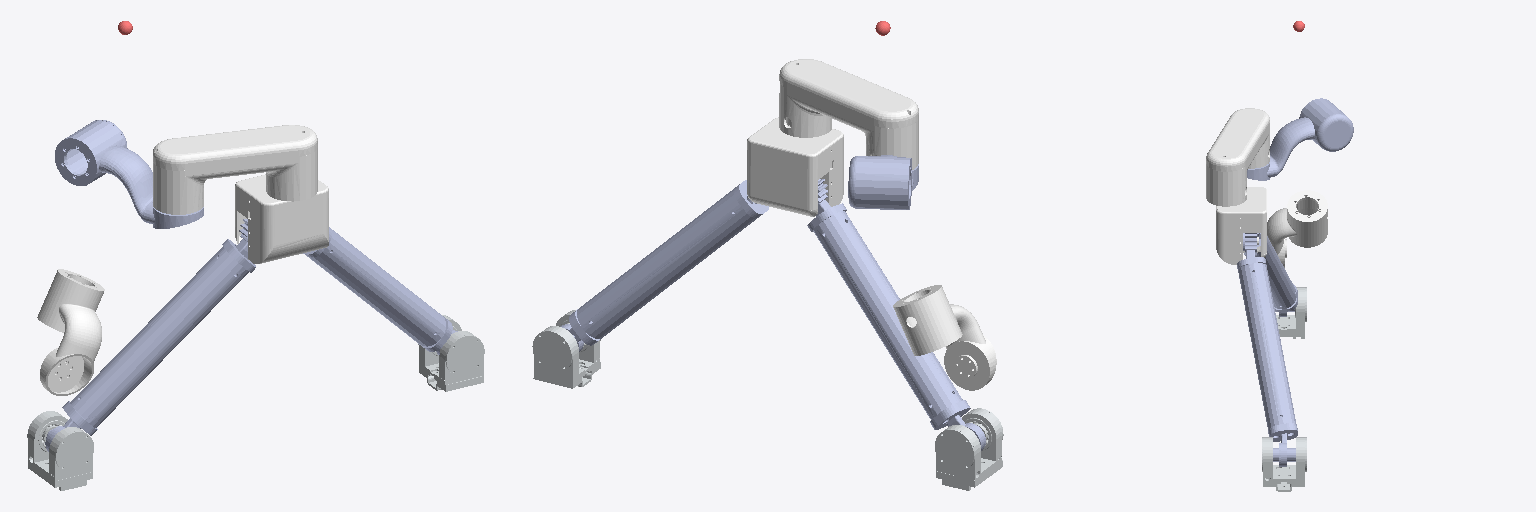
robot.urdf — arm12:
<?xml version="1.0" encoding="utf-8" ?>
<!-- This URDF was automatically created by SolidWorks to URDF Exporter! Originally created by [author] ([email redacted]) 
     Commit Version: 1.6.0-4-g7f85cfe  Build Version: 1.6.7995.38578
     For more information, please see http://wiki.ros.org/sw_urdf_exporter -->
<robot name="arm12">
    <link name="rotated_base" />
    <joint name="rot_to_base" type="fixed">
        <parent link="rotated_base" />
        <child link="base_link" />
        <origin xyz="0 0 0" rpy="0 3.14 0" />
    </joint>
    <link name="base_link">
        <inertial>
            <origin xyz="-0.114741653388133 -0.00394836028883594 -0.0536105920933669" rpy="0 0 0" />
            <mass value="2.63443753992699" />
            <inertia ixx="0.00189567328668365" ixy="7.29873865389891E-06" ixz="0.000140090900098037" iyy="0.158992383742472" iyz="1.36209227842431E-06" izz="0.158257846821755" />
        </inertial>
        <visual>
            <origin xyz="0 0 0" rpy="0 0 0" />
            <geometry>
                <mesh filename="package://arm12/meshes/base_link.STL" />
            </geometry>
            <material name="">
                <color rgba="0.792156862745098 0.819607843137255 0.933333333333333 1" />
            </material>
        </visual>
        <collision>
            <origin xyz="0 0 0" rpy="0 0 0" />
            <geometry>
                <mesh filename="package://arm12/meshes/base_link.STL" />
            </geometry>
        </collision>
    </link>
    <link name="l1">
        <inertial>
            <origin xyz="0.403597483420043 -0.0414638574022828 0.00700359932104074" rpy="0 0 0" />
            <mass value="0.381600228345592" />
            <inertia ixx="0.000152419359459052" ixy="-1.16717541525886E-07" ixz="-4.78639401455686E-07" iyy="0.00015874224871389" iyz="3.26007402233397E-07" izz="0.000167838112577603" />
        </inertial>
        <visual>
            <origin xyz="0 0 0" rpy="0 0 0" />
            <geometry>
                <mesh filename="package://arm12/meshes/l1.STL" />
            </geometry>
            <material name="">
                <color rgba="0.898039215686275 0.917647058823529 0.929411764705882 1" />
            </material>
        </visual>
        <collision>
            <origin xyz="0 0 0" rpy="0 0 0" />
            <geometry>
                <mesh filename="package://arm12/meshes/l1.STL" />
            </geometry>
        </collision>
    </link>
    <joint name="j1" type="prismatic">
        <origin xyz="-0.79073 0.0075 -0.026676" rpy="1.5708 0 0" />
        <parent link="base_link" />
        <child link="l1" />
        <axis xyz="1 0.00024256 0" />
        <limit lower="-1" upper="1" effort="1000" velocity="1000" />
    </joint>
    <link name="l11">
        <inertial>
            <origin xyz="0.109124708134365 -0.106742142823085 0.0291269836365173" rpy="0 0 0" />
            <mass value="0.308192429361636" />
            <inertia ixx="0.00036660835632017" ixy="0.000236532188858594" ixz="-5.91891737788076E-05" iyy="0.000377052003364126" iyz="5.79126892712075E-05" izz="0.000595833629485193" />
        </inertial>
        <visual>
            <origin xyz="0 0 0" rpy="0 0 0" />
            <geometry>
                <mesh filename="package://arm12/meshes/l11.STL" />
            </geometry>
            <material name="">
                <color rgba="0.792156862745098 0.819607843137255 0.933333333333333 1" />
            </material>
        </visual>
        <collision>
            <origin xyz="0 0 0" rpy="0 0 0" />
            <geometry>
                <mesh filename="package://arm12/meshes/l11.STL" />
            </geometry>
        </collision>
    </link>
    <joint name="j11" type="continuous">
        <origin xyz="0.403574468337888 -0.0486058728976355 -0.000248553231492891" rpy="0 0 0" />
        <parent link="l1" />
        <child link="l11" />
        <axis xyz="0 0 -1" />
    </joint>
    <link name="l2">
        <inertial>
            <origin xyz="1.0157003601035 -0.0384463563381593 0.00765610841163893" rpy="0 0 0" />
            <mass value="0.51688405008029" />
            <inertia ixx="0.000289252991255811" ixy="6.16500231917276E-07" ixz="-1.38368241480024E-06" iyy="0.000291829291446418" iyz="-1.10552388292668E-06" izz="0.00026788505040365" />
        </inertial>
        <visual>
            <origin xyz="0 0 0" rpy="0 0 0" />
            <geometry>
                <mesh filename="package://arm12/meshes/l2.STL" />
            </geometry>
            <material name="">
                <color rgba="0.898039215686275 0.917647058823529 0.929411764705882 1" />
            </material>
        </visual>
        <collision>
            <origin xyz="0 0 0" rpy="0 0 0" />
            <geometry>
                <mesh filename="package://arm12/meshes/l2.STL" />
            </geometry>
        </collision>
    </link>
    <joint name="j2" type="prismatic">
        <origin xyz="-0.79073 0.0075 -0.026676" rpy="1.5708 0 0" />
        <parent link="base_link" />
        <child link="l2" />
        <axis xyz="1 0.00024256 0" />
        <limit lower="-1" upper="1" effort="1000" velocity="1000" />
    </joint>
    <link name="l3">
        <inertial>
            <origin xyz="-0.10814121670337 -0.105773126393835 0.0288760940795127" rpy="0 0 0" />
            <mass value="0.306128922940993" />
            <inertia ixx="0.000367090541907876" ixy="-0.000237220677320172" ixz="5.90721357269542E-05" iyy="0.000377593275938236" iyz="5.77716342409563E-05" izz="0.000596928132744383" />
        </inertial>
        <visual>
            <origin xyz="0 0 0" rpy="0 0 0" />
            <geometry>
                <mesh filename="package://arm12/meshes/l3.STL" />
            </geometry>
            <material name="">
                <color rgba="0.792156862745098 0.819607843137255 0.933333333333333 1" />
            </material>
        </visual>
        <collision>
            <origin xyz="0 0 0" rpy="0 0 0" />
            <geometry>
                <mesh filename="package://arm12/meshes/l3.STL" />
            </geometry>
        </collision>
    </link>
    <joint name="j3" type="continuous">
        <origin xyz="1.0158 -0.048606 -0.00024711" rpy="0 0 0" />
        <parent link="l2" />
        <child link="l3" />
        <axis xyz="0 0 -1" />
        <limit lower="1000" upper="1000" effort="1000" velocity="1000" />
    </joint>
    <link name="l4">
        <inertial>
            <origin xyz="-0.0247644704780808 -0.0233597492007901 0.033905617015353" rpy="0 0 0" />
            <mass value="0.247877954974344" />
            <inertia ixx="0.000275512262276771" ixy="-4.01235172214852E-08" ixz="5.68470398676511E-07" iyy="0.000303231827207215" iyz="4.68448608364464E-05" izz="0.000495903390975614" />
        </inertial>
        <visual>
            <origin xyz="0 0 0" rpy="0 0 0" />
            <geometry>
                <mesh filename="package://arm12/meshes/l4.STL" />
            </geometry>
            <material name="">
                <color rgba="1 1 1 1" />
            </material>
        </visual>
        <collision>
            <origin xyz="0 0 0" rpy="0 0 0" />
            <geometry>
                <mesh filename="package://arm12/meshes/l4.STL" />
            </geometry>
        </collision>
    </link>
    <joint name="j4" type="continuous">
        <origin xyz="-0.2814 -0.27508 0.049459" rpy="0 0 0" />
        <parent link="l3" />
        <child link="l4" />
        <axis xyz="0 0 1" />
        <limit lower="1000" upper="1000" effort="1000" velocity="1000" />
    </joint>
    <link name="l6">
        <inertial>
            <origin xyz="0.0835083121801821 -0.0131318490598266 -0.022315022598535" rpy="0 0 0" />
            <mass value="0.492993890644909" />
            <inertia ixx="0.000390471608455916" ixy="2.48268434817755E-06" ixz="0.000302295718302552" iyy="0.00155512945705818" iyz="-1.20122073303538E-06" izz="0.00147705952278512" />
        </inertial>
        <visual>
            <origin xyz="0 0 0" rpy="0 0 0" />
            <geometry>
                <mesh filename="package://arm12/meshes/l6.STL" />
            </geometry>
            <material name="">
                <color rgba="1 1 1 1" />
            </material>
        </visual>
        <collision>
            <origin xyz="0 0 0" rpy="0 0 0" />
            <geometry>
                <mesh filename="package://arm12/meshes/l6.STL" />
            </geometry>
        </collision>
    </link>
    <joint name="j6" type="continuous">
        <origin xyz="-0.031134 -0.097956 0.059414" rpy="0 0 0" />
        <parent link="l4" />
        <child link="l6" />
        <axis xyz="0 1 0" />
        <limit lower="1000" upper="1000" effort="1000" velocity="1000" />
    </joint>
    <link name="l7">
        <inertial>
            <origin xyz="0.0315318501806746 0.00583507478957768 -0.0817967507514115" rpy="0 0 0" />
            <mass value="0.200740625287396" />
            <inertia ixx="0.000563180696639149" ixy="8.48547014814516E-05" ixz="0.000202999903698582" iyy="0.000610313185565538" iyz="-0.000156946216691284" izz="0.000315973335029523" />
        </inertial>
        <visual>
            <origin xyz="0 0 0" rpy="0 0 0" />
            <geometry>
                <mesh filename="package://arm12/meshes/l7.STL" />
            </geometry>
            <material name="">
                <color rgba="0.792156862745098 0.819607843137255 0.933333333333333 1" />
            </material>
        </visual>
        <collision>
            <origin xyz="0 0 0" rpy="0 0 0" />
            <geometry>
                <mesh filename="package://arm12/meshes/l7.STL" />
            </geometry>
        </collision>
    </link>
    <joint name="j7" type="continuous">
        <origin xyz="0.16802 0 -0.043732" rpy="0 0 0" />
        <parent link="l6" />
        <child link="l7" />
        <axis xyz="0 1 0" />
        <limit lower="1000" upper="1000" effort="1000" velocity="1000" />
    </joint>
    <link name="l8">
        <inertial>
            <origin xyz="-0.00639785855543679 -0.105467190035519 0.0332454721635889" rpy="0 0 0" />
            <mass value="0.232745208884819" />
            <inertia ixx="0.000344329566709667" ixy="-0.000100351533357395" ixz="-3.41790292256826E-06" iyy="0.000220748774570507" iyz="9.99580236012298E-06" izz="0.000406188026813068" />
        </inertial>
        <visual>
            <origin xyz="0 0 0" rpy="0 0 0" />
            <geometry>
                <mesh filename="package://arm12/meshes/l8.STL" />
            </geometry>
            <material name="">
                <color rgba="1 1 1 1" />
            </material>
        </visual>
        <collision>
            <origin xyz="0 0 0" rpy="0 0 0" />
            <geometry>
                <mesh filename="package://arm12/meshes/l8.STL" />
            </geometry>
        </collision>
    </link>
    <joint name="j8" type="continuous">
        <origin xyz="0.057439 -0.0094087 -0.13328" rpy="0 0 0" />
        <parent link="l7" />
        <child link="l8" />
        <axis xyz="-0.90237 0 -0.43096" />
        <limit lower="1000" upper="1000" effort="1000" velocity="1000" />
    </joint>
    <!--  在 l8 后面挂一个 tool0 -->
    <link name="tool0">
        <!-- 如果你想在 RViz 里可视化，可以加一个小盒子或球体；不想可视化也可以留空 -->
        <visual>
            <origin xyz="0 0 0" rpy="0 0 0" />
            <geometry>
                <sphere radius="0.01" />
            </geometry>
            <material name="Grey">
                <color rgba="1 0.5 0.5 1" />
            </material>
        </visual>
        <collision>
            <origin xyz="0 0 0" rpy="0 0 0" />
            <geometry>
                <sphere radius="0.001" />
            </geometry>
        </collision>
        <!-- 惯量随便给一个很小的，或者干脆不加 inertial 也行 -->
        <inertial>
            <mass value="0.1" />
            <origin xyz="0 0 0" rpy="0 0 0" />
            <inertia ixx="0.03" iyy="0.03" izz="0.03" ixy="0.0" ixz="0.0" iyz="0.0" />
        </inertial>
    </link>
    <joint name="tool0_fixed_joint" type="fixed">
        <parent link="l8" />
        <child link="tool0" />
        <!-- 如果你的夹爪前端需要在 l8 的某个偏移位置，就在这里改 xyz -->
        <origin xyz="-0.03 -0.2 0.05" rpy="0 0 0" />
    </joint>
    <transmission name="trans_j1">
        <type>transmission_interface/SimpleTransmission</type>
        <joint name="j1">
            <hardwareInterface>hardware_interface/EffortJointInterface</hardwareInterface>
        </joint>
        <actuator name="j1_motor">
            <hardwareInterface>hardware_interface/EffortJointInterface</hardwareInterface>
            <mechanicalReduction>1</mechanicalReduction>
        </actuator>
    </transmission>
    <transmission name="trans_j11">
        <type>transmission_interface/SimpleTransmission</type>
        <joint name="j11">
            <hardwareInterface>hardware_interface/EffortJointInterface</hardwareInterface>
        </joint>
        <actuator name="j11_motor">
            <hardwareInterface>hardware_interface/EffortJointInterface</hardwareInterface>
            <mechanicalReduction>1</mechanicalReduction>
        </actuator>
    </transmission>
    <transmission name="trans_j2">
        <type>transmission_interface/SimpleTransmission</type>
        <joint name="j2">
            <hardwareInterface>hardware_interface/EffortJointInterface</hardwareInterface>
        </joint>
        <actuator name="j2_motor">
            <hardwareInterface>hardware_interface/EffortJointInterface</hardwareInterface>
            <mechanicalReduction>1</mechanicalReduction>
        </actuator>
    </transmission>
    <transmission name="trans_j3">
        <type>transmission_interface/SimpleTransmission</type>
        <joint name="j3">
            <hardwareInterface>hardware_interface/EffortJointInterface</hardwareInterface>
        </joint>
        <actuator name="j3_motor">
            <hardwareInterface>hardware_interface/EffortJointInterface</hardwareInterface>
            <mechanicalReduction>1</mechanicalReduction>
        </actuator>
    </transmission>
    <transmission name="trans_j4">
        <type>transmission_interface/SimpleTransmission</type>
        <joint name="j4">
            <hardwareInterface>hardware_interface/EffortJointInterface</hardwareInterface>
        </joint>
        <actuator name="j4_motor">
            <hardwareInterface>hardware_interface/EffortJointInterface</hardwareInterface>
            <mechanicalReduction>1</mechanicalReduction>
        </actuator>
    </transmission>
    <transmission name="trans_j6">
        <type>transmission_interface/SimpleTransmission</type>
        <joint name="j6">
            <hardwareInterface>hardware_interface/EffortJointInterface</hardwareInterface>
        </joint>
        <actuator name="j6_motor">
            <hardwareInterface>hardware_interface/EffortJointInterface</hardwareInterface>
            <mechanicalReduction>1</mechanicalReduction>
        </actuator>
    </transmission>
    <transmission name="trans_j7">
        <type>transmission_interface/SimpleTransmission</type>
        <joint name="j7">
            <hardwareInterface>hardware_interface/EffortJointInterface</hardwareInterface>
        </joint>
        <actuator name="j7_motor">
            <hardwareInterface>hardware_interface/EffortJointInterface</hardwareInterface>
            <mechanicalReduction>1</mechanicalReduction>
        </actuator>
    </transmission>
    <transmission name="trans_j8">
        <type>transmission_interface/SimpleTransmission</type>
        <joint name="j8">
            <hardwareInterface>hardware_interface/EffortJointInterface</hardwareInterface>
        </joint>
        <actuator name="j8_motor">
            <hardwareInterface>hardware_interface/EffortJointInterface</hardwareInterface>
            <mechanicalReduction>1</mechanicalReduction>
        </actuator>
    </transmission>
    <gazebo>
        <plugin name="gazebo_ros_control" filename="libgazebo_ros_control.so">
            <robotNamespace>/</robotNamespace>
        </plugin>
    </gazebo>
</robot>

--- Render facts (derived) ---
3 views of the same robot in one strip: view 1: azimuth 30°, elevation 25°; view 2: azimuth 150°, elevation 25°; view 3: azimuth 270°, elevation 25° (orthographic).
Robot: arm12 — 11 links, 10 joints (6 continuous, 2 prismatic, 2 fixed); root link rotated_base; default pose: all joints at 0.
Links seen in each view (by area): view 1: l6, l3, l8, l4, l11, l7, l2, l1; view 2: l6, l3, l11, l4, l8, l2, l7, l1; view 3: l11, l6, l7, l8, l4, l1, l3, l2.
Boxes of the visible links, <box> form: l6: <box>153,125,317,214</box>; l3: <box>45,219,255,451</box>; l8: <box>37,269,104,395</box>; l4: <box>235,174,328,263</box>; l11: <box>303,227,457,354</box>; l7: <box>55,120,203,228</box>; l2: <box>27,411,93,490</box>; l1: <box>418,315,484,391</box>; l6: <box>779,59,918,169</box>; l3: <box>807,179,985,450</box>; l11: <box>560,180,768,351</box>; l4: <box>747,117,843,216</box>; l8: <box>893,285,996,390</box>; l2: <box>935,408,1003,490</box>; l7: <box>848,155,918,209</box>; l1: <box>532,310,600,388</box>; l11: <box>1237,233,1297,466</box>; l6: <box>1206,108,1269,206</box>; l7: <box>1247,98,1353,180</box>; l8: <box>1267,190,1327,267</box>; l4: <box>1216,187,1266,264</box>; l1: <box>1262,437,1306,491</box>; l3: <box>1244,233,1297,316</box>; l2: <box>1276,287,1306,338</box>.
Bounding box of the posed robot: 0.6748 × 0.2538 × 0.648 m (x, y, z).
8 mesh visuals loaded from 9 distinct referenced files (7 binary STL, 1 ASCII STL); not drawn: 1 (reference not matched to a file when rendering).
